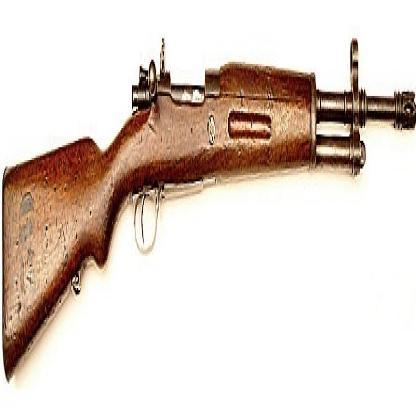gun: (0, 10, 416, 381)
